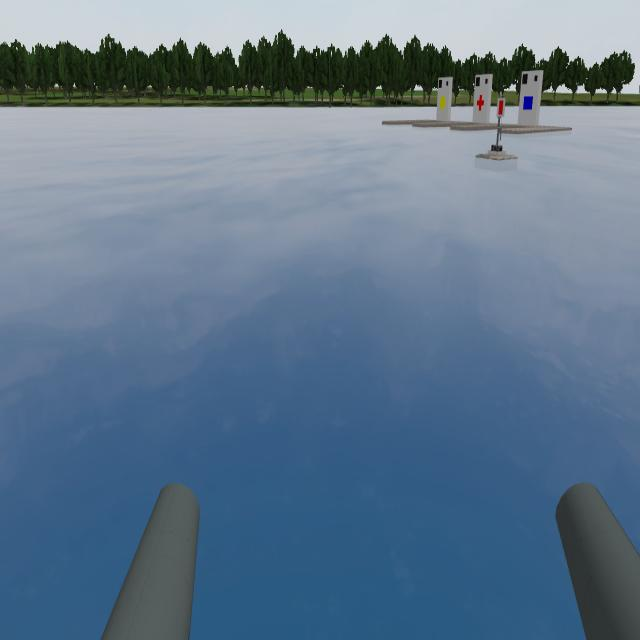red_pole: (496, 90, 508, 131)
